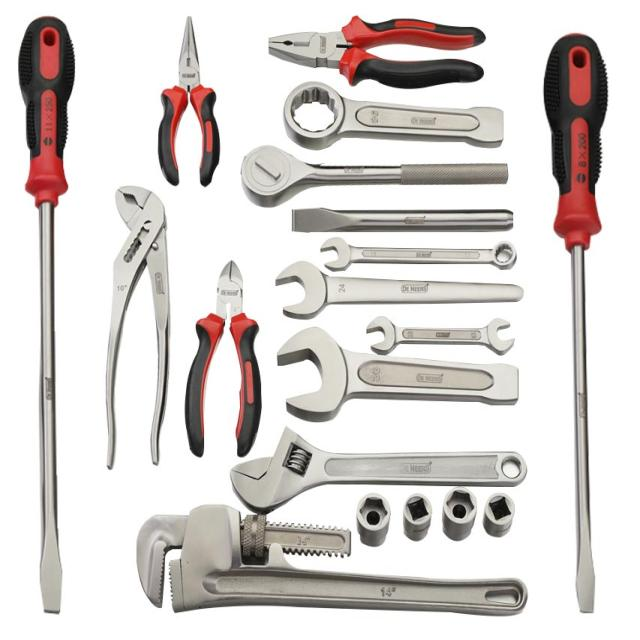Screwdriver: (544, 34, 608, 612), (19, 17, 75, 614)
